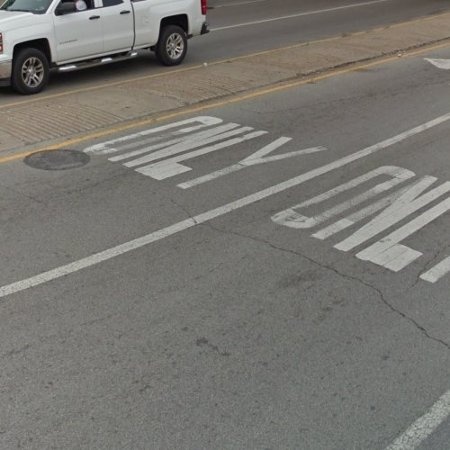汽車: (1, 1, 234, 93)
行人穿越道: (275, 146, 450, 302), (90, 103, 307, 196)
